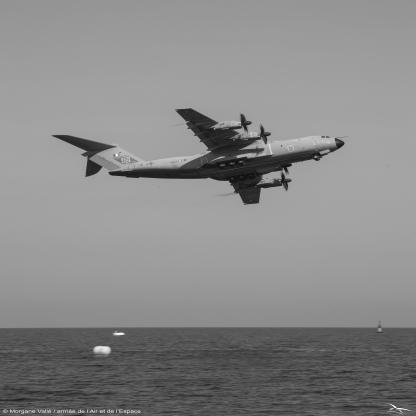A400M: (52, 109, 350, 206)
